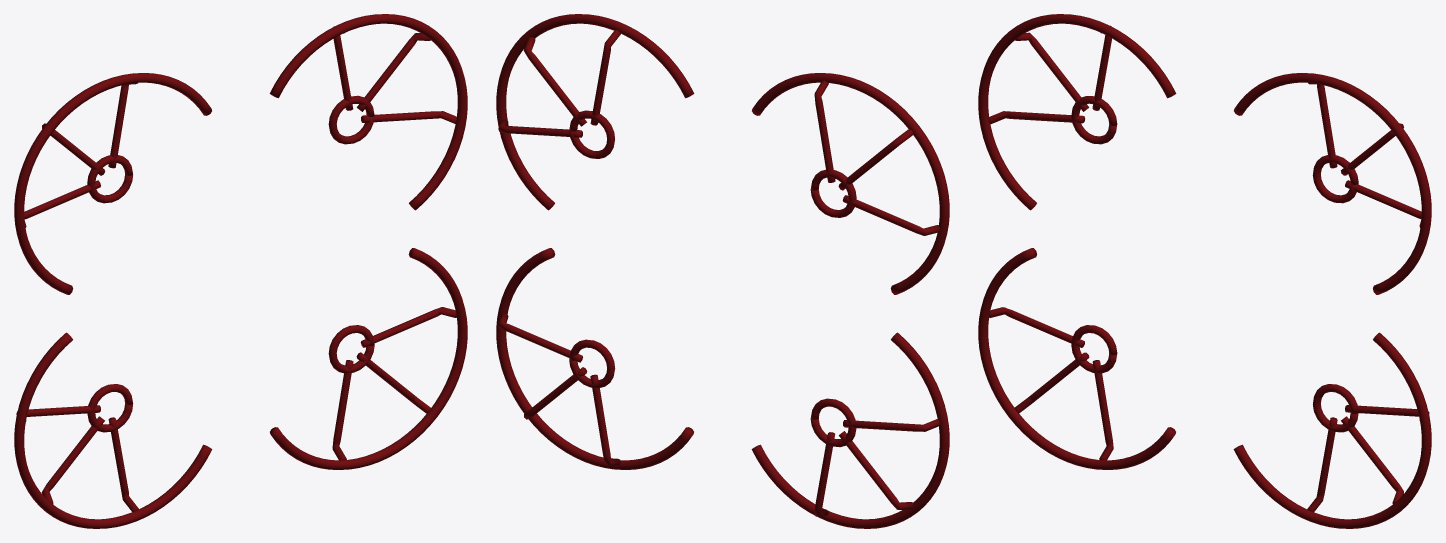
The model's file is tello_body_guard.obj.
3 renders of one model, left to right at view 1: azimuth 30°, elevation 25°; view 2: azimuth 150°, elevation 25°; view 3: azimuth 330°, elevation 25°, orthographic.
Visible parts, largest first — view 1: TT_guard_3, TT_guard_0, TT_guard_2, TT_guard_1; view 2: TT_guard_1, TT_guard_2, TT_guard_0, TT_guard_3; view 3: TT_guard_2, TT_guard_1, TT_guard_3, TT_guard_0.
Boxes of the visible parts, x1,y1,x2,y2 form: TT_guard_3: (270, 248, 467, 469); TT_guard_0: (269, 14, 467, 210); TT_guard_2: (14, 332, 212, 528); TT_guard_1: (14, 73, 211, 294); TT_guard_1: (752, 73, 949, 294); TT_guard_2: (751, 332, 949, 528); TT_guard_0: (496, 14, 694, 210); TT_guard_3: (496, 248, 693, 469); TT_guard_2: (978, 248, 1175, 469); TT_guard_1: (978, 14, 1176, 210); TT_guard_3: (1233, 332, 1431, 528); TT_guard_0: (1234, 73, 1431, 294).
Bounding box in the file's own units: 0.1611 × 0.1531 × 0.00907.
